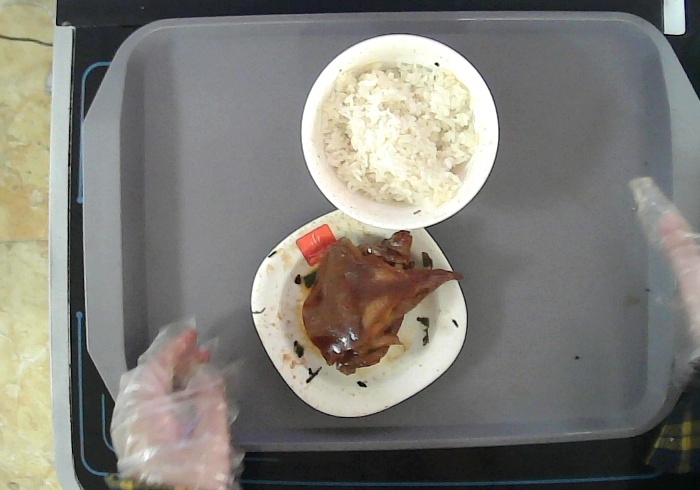SHKJ-Bai_Se_Si_Fang_Cai_Die: (251, 212, 468, 415)
SHKJ-Fan_Wan: (299, 31, 498, 229)
